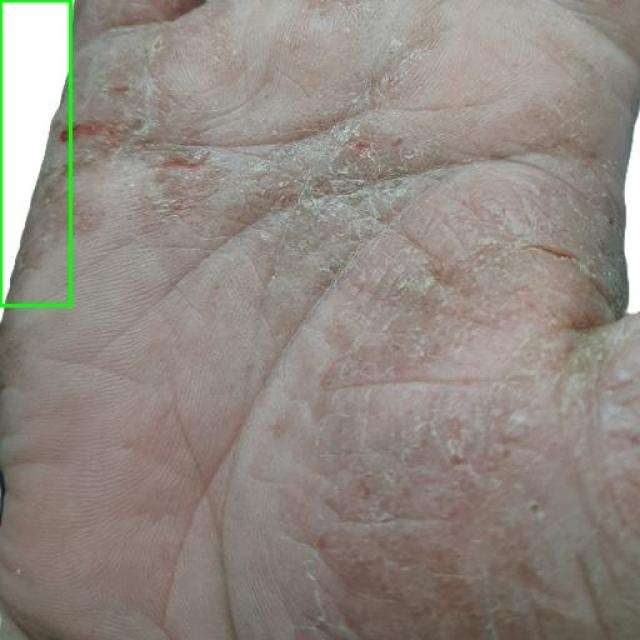Contact Dermatitis: (0, 0, 71, 306)
